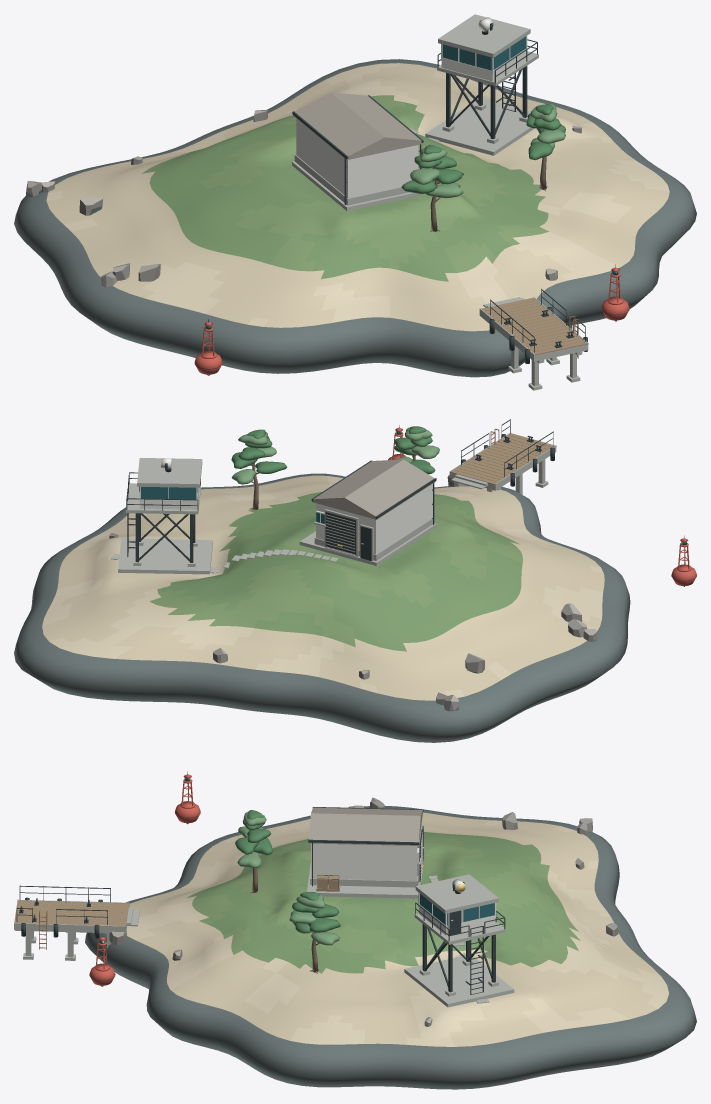
The model's file is ENV_HarborIsland.fbx.
The picture shows the model from 3 angles, top to bottom: view 1: azimuth 30°, elevation 25°; view 2: azimuth 150°, elevation 25°; view 3: azimuth 270°, elevation 25°; orthographic projection. The views are drawn at different scales.
Parts seen in each view (by area): view 1: TerrainShell, ENV_SupplyDepot_0_Visual, ENV_WatchPost_1_Visual, ENV_Jetty_4_Visual, ENV_CoastalPine_3_Visual, Decor_Visual, ENV_CoastalPine_2_Visual, ENV_NavigationBuoy_5_Visual, ENV_NavigationBuoy_6_Visual; view 2: TerrainShell, ENV_SupplyDepot_0_Visual, ENV_WatchPost_1_Visual, ENV_Jetty_4_Visual, Decor_Visual, ENV_CoastalPine_2_Visual, ENV_CoastalPine_3_Visual, ENV_NavigationBuoy_5_Visual; view 3: TerrainShell, ENV_SupplyDepot_0_Visual, ENV_WatchPost_1_Visual, ENV_Jetty_4_Visual, ENV_CoastalPine_2_Visual, ENV_CoastalPine_3_Visual, Decor_Visual, ENV_NavigationBuoy_6_Visual, ENV_NavigationBuoy_5_Visual.
Part boxes in pixels (x1,y1,x2,y2): TerrainShell: (14,59,696,377); ENV_SupplyDepot_0_Visual: (292,92,425,210); ENV_WatchPost_1_Visual: (425,14,538,155); ENV_Jetty_4_Visual: (479,288,588,390); ENV_CoastalPine_3_Visual: (401,144,463,231); Decor_Visual: (26,106,581,287); ENV_CoastalPine_2_Visual: (526,103,565,190); ENV_NavigationBuoy_5_Visual: (194,318,222,375); ENV_NavigationBuoy_6_Visual: (601,264,629,321); TerrainShell: (14,473,630,742); ENV_SupplyDepot_0_Visual: (299,459,436,565); ENV_WatchPost_1_Visual: (118,458,212,574); ENV_Jetty_4_Visual: (449,419,556,496); Decor_Visual: (109,475,597,711); ENV_CoastalPine_2_Visual: (231,429,287,510); ENV_CoastalPine_3_Visual: (394,426,439,474); ENV_NavigationBuoy_5_Visual: (671,535,696,586); TerrainShell: (85,806,696,1089); ENV_SupplyDepot_0_Visual: (307,807,423,898); ENV_WatchPost_1_Visual: (404,874,514,1007); ENV_Jetty_4_Visual: (14,885,140,961); ENV_CoastalPine_2_Visual: (289,892,340,973); ENV_CoastalPine_3_Visual: (235,810,272,893); Decor_Visual: (109,797,618,1026); ENV_NavigationBuoy_6_Visual: (89,934,115,986); ENV_NavigationBuoy_5_Visual: (175,771,200,824).
Bounding box in the file's own units: 3298 × 933 × 3649.
